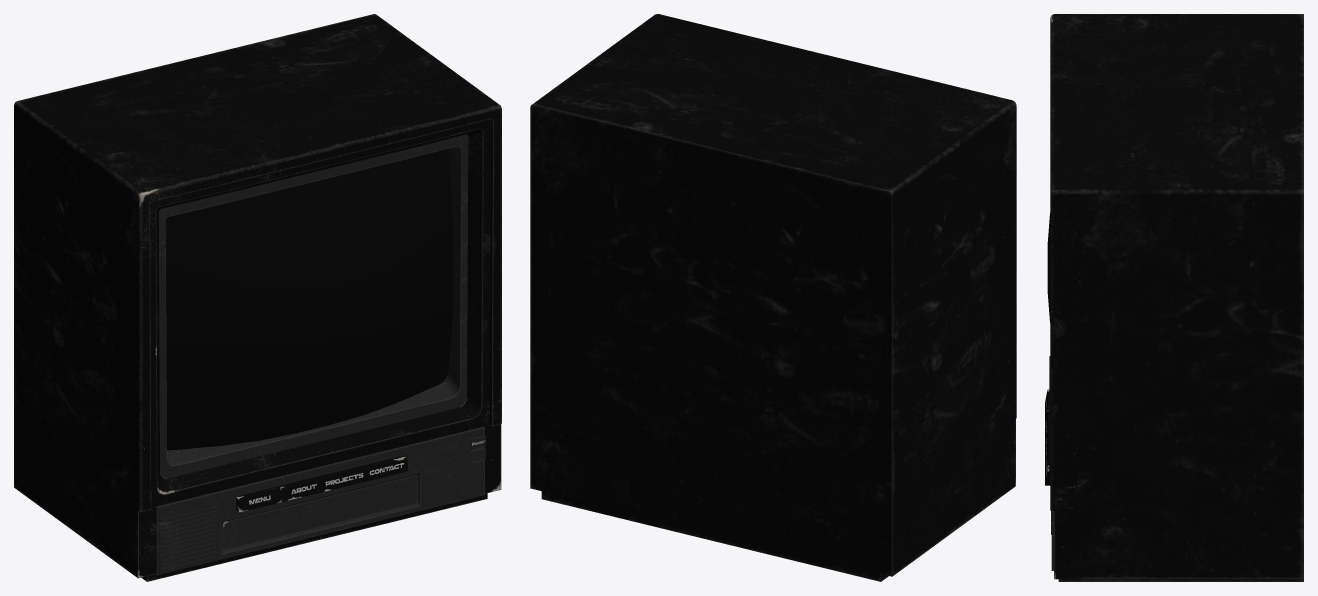
The picture shows the model from 3 angles, left to right: view 1: azimuth 30°, elevation 25°; view 2: azimuth 150°, elevation 25°; view 3: azimuth 270°, elevation 25°; orthographic projection.
Parts seen in each view (by area): view 1: Plane.011, screen, Plane.012, Plane.014, menue, contact, projects, about; view 2: Plane.011; view 3: Plane.011, screen.
Part boxes in pixels (x1,y1,x2,y2): Plane.011: [14, 14, 501, 581]; screen: [165, 149, 453, 450]; Plane.012: [222, 475, 417, 550]; Plane.014: [159, 493, 215, 574]; menue: [236, 486, 281, 512]; contact: [362, 455, 408, 481]; projects: [320, 465, 365, 491]; about: [278, 476, 323, 501]; Plane.011: [530, 14, 1016, 581]; Plane.011: [1050, 14, 1303, 581]; screen: [1047, 213, 1050, 322].
Bounding box in the file's own units: 2.18 × 2.26 × 1.34.
Materials: 2 (2 with a texture image).
